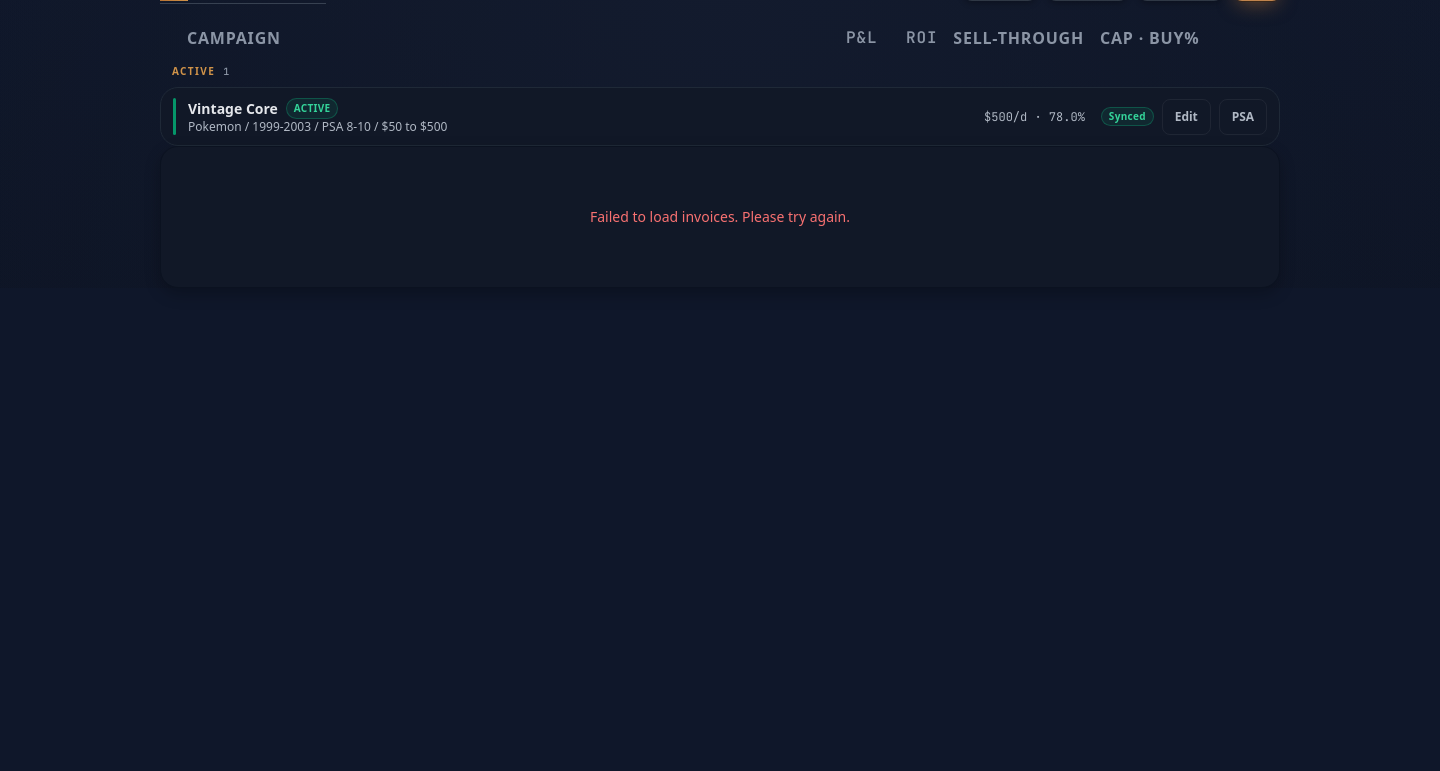
it: reports a 409 as a conflict rather than a generic failure
Step 1. Click the button with aria-label "edit vintage core" → (1186, 117), box [1162,99,1211,135]
(page scrolled)
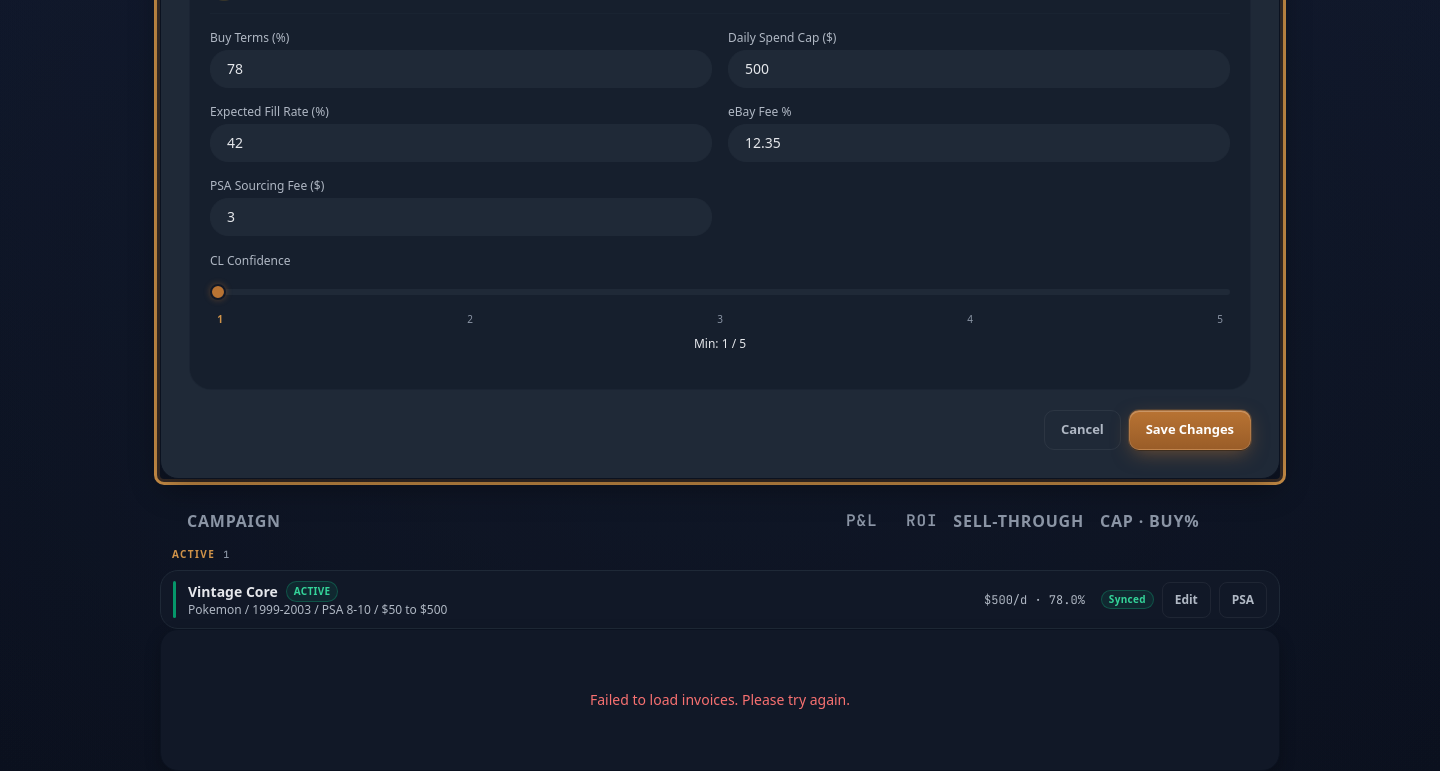
Step 2. Click the button "Save Changes" → (1190, 430), box [1129,410,1251,450]
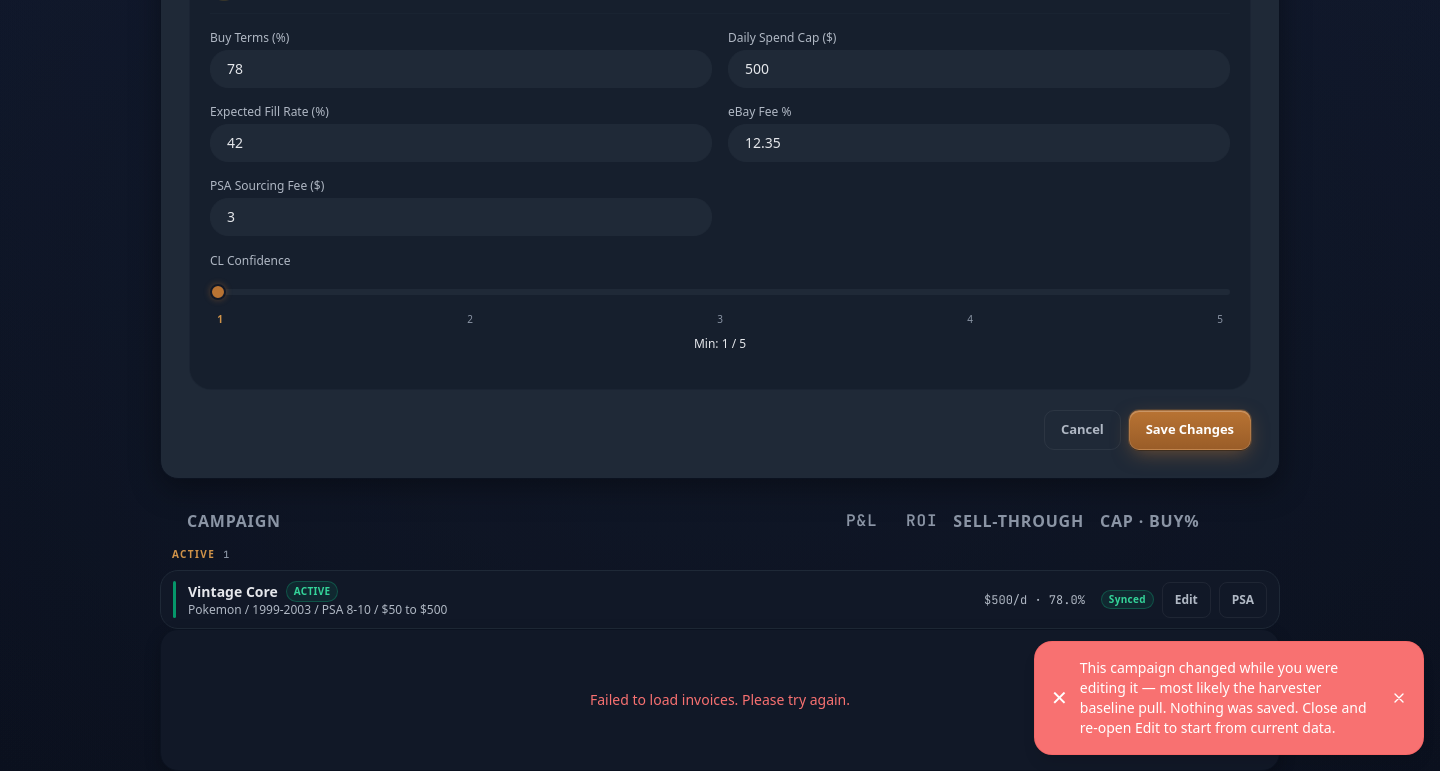
Expected: the button "Save Changes" is shown, [1129,410,1251,450]
Expected: the text "changed while you were editing it" is shown, [1080,658,1367,737]
